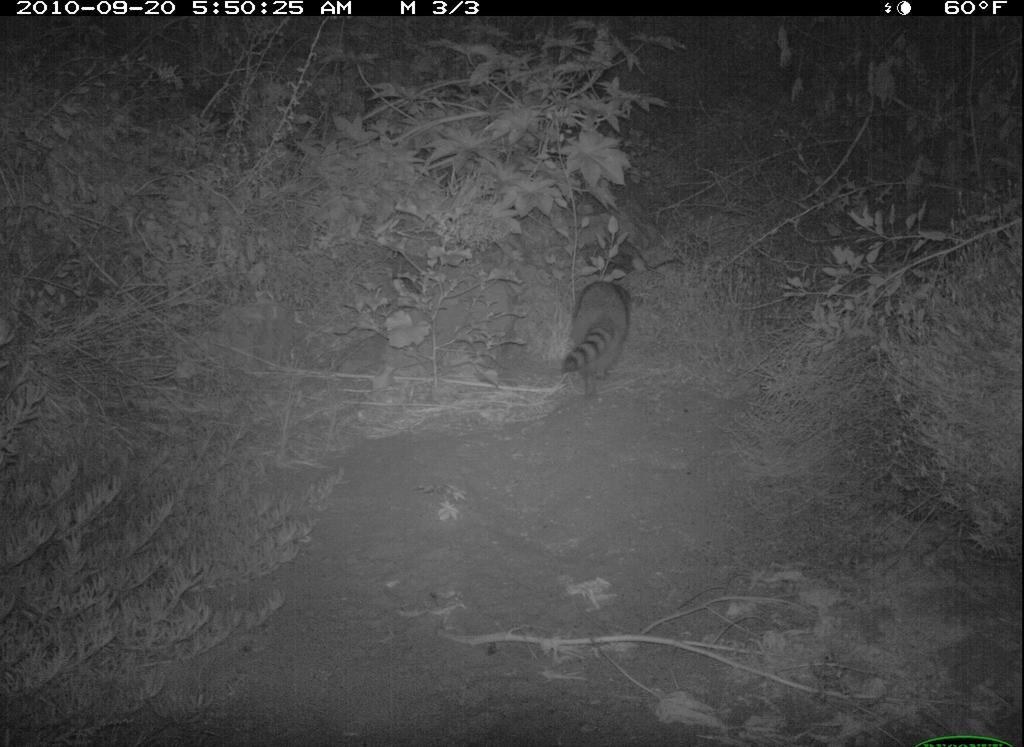raccoon: (542, 263, 660, 419)
